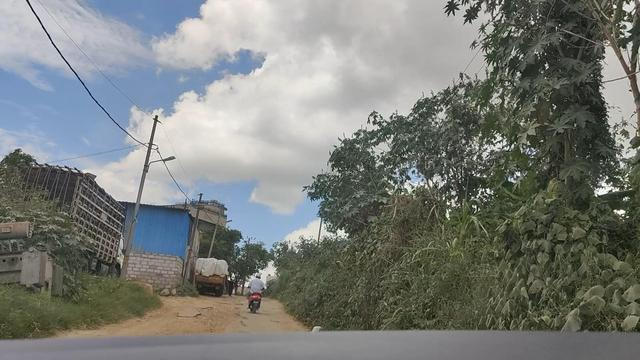HMV: (193, 256, 230, 300)
RoadDamages: (155, 305, 254, 339)
